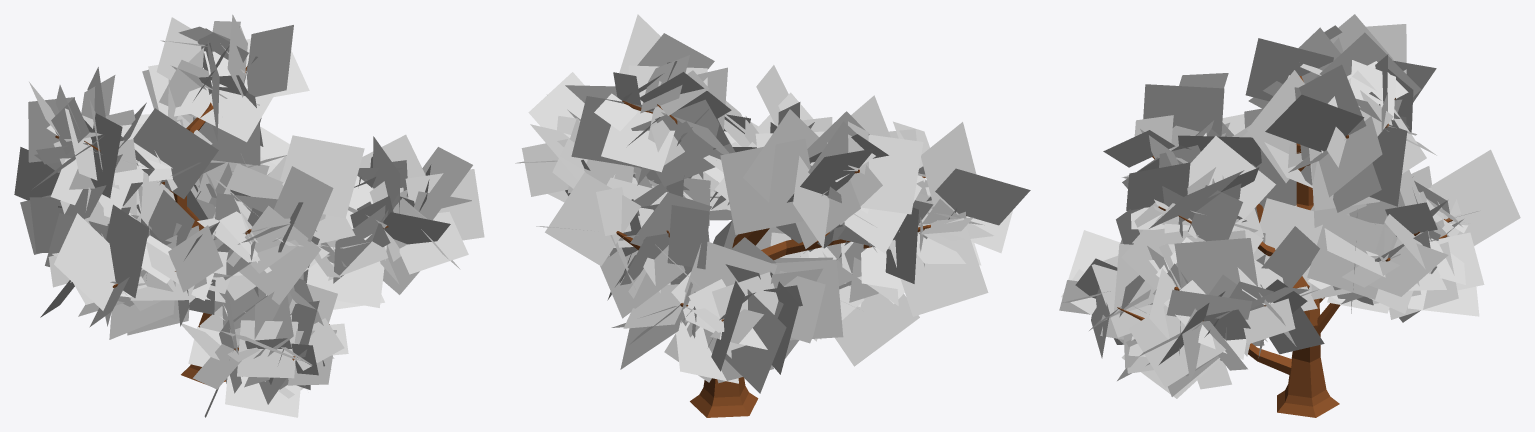
The model's file is WizardTree.glb.
3 views of the same model, side by side, from view 1: azimuth 30°, elevation 25°; view 2: azimuth 150°, elevation 25°; view 3: azimuth 270°, elevation 25° (orthographic). The views are drawn at different scales.
Parts seen in each view (by area): view 1: Wizard_tree; view 2: Wizard_tree; view 3: Wizard_tree.
Part boxes in pixels (bbox=[...]): Wizard_tree: bbox=[14, 14, 484, 417]; Wizard_tree: bbox=[515, 14, 1030, 417]; Wizard_tree: bbox=[1059, 14, 1520, 417].
Bounding box in the file's own units: 24.05 × 18.1 × 21.09.
